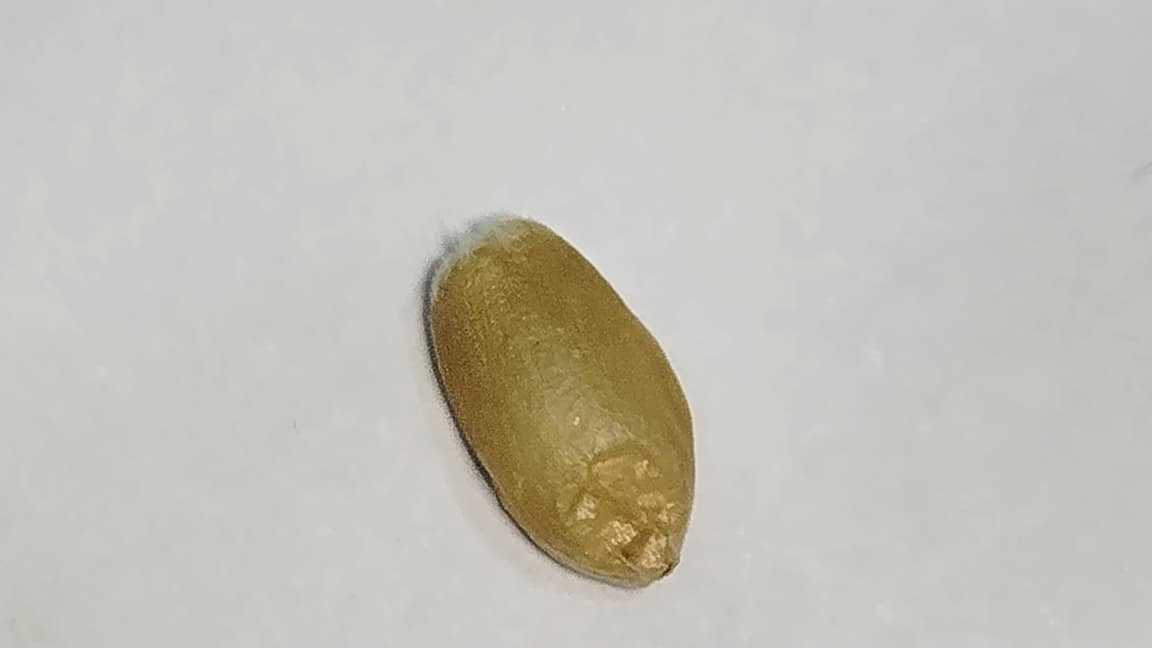healthy: (425, 214, 693, 586)
